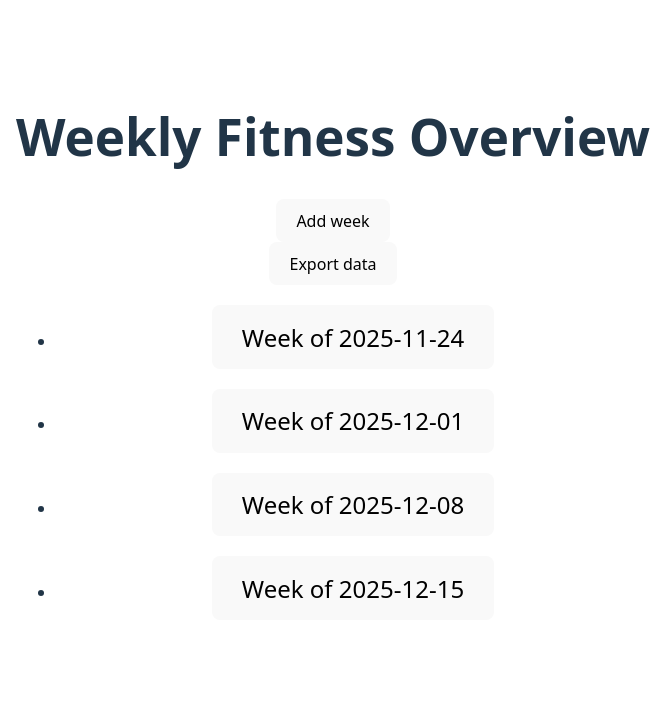
Test case: WeeklyOverviewPage › add week: creates the current week immediately if it does not exist yet
Click the button "Add week". click: point(333, 220)
box: x1=276 y1=199 x2=390 y2=242
(page scrolled)
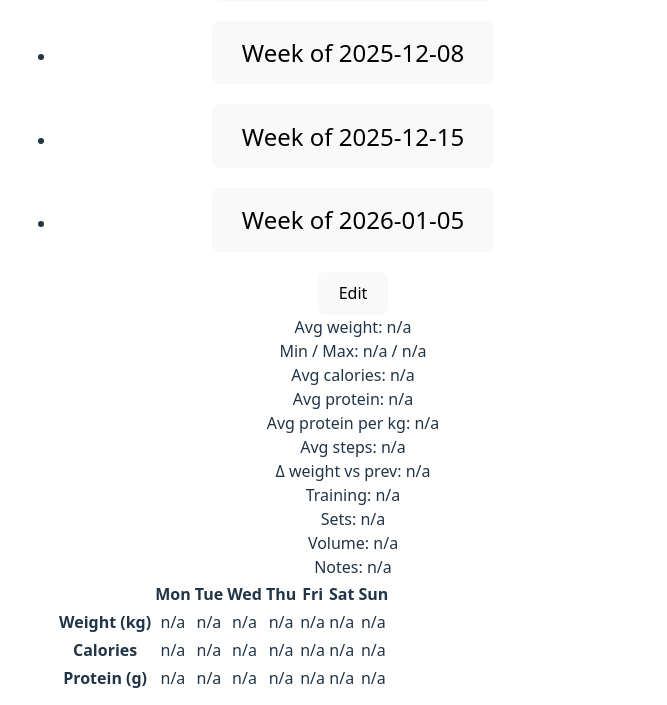
Result: the button "Week of 2026-01-05" is shown at x1=212 y1=188 x2=494 y2=252
Result: the element with test id "week-card-new-week-id-details" is shown at x1=59 y1=272 x2=439 y2=689
